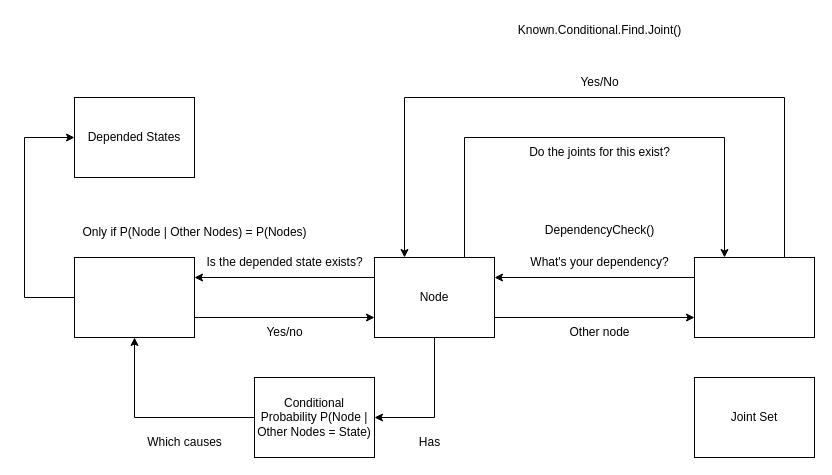
This 832x475 diagram has some shape labels left out. The shapes that lost their labels are listed below. From the top down, each one's box as (x1, y1, x2, y2) in pixels, then its label:
(74, 256, 194, 338): Other Node (Dependency to Node)
(694, 256, 814, 338): Context
